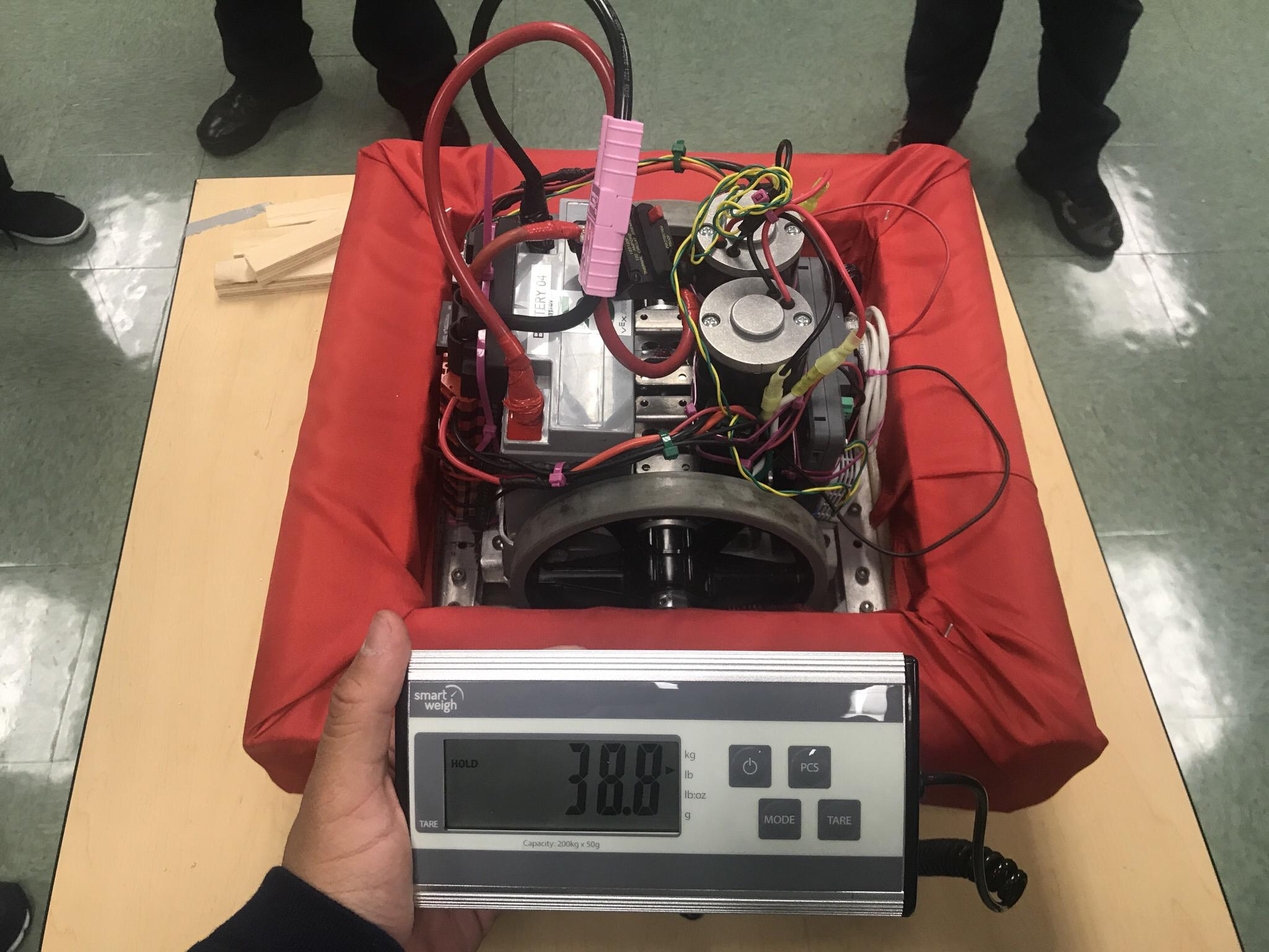robot: (240, 0, 1125, 846)
